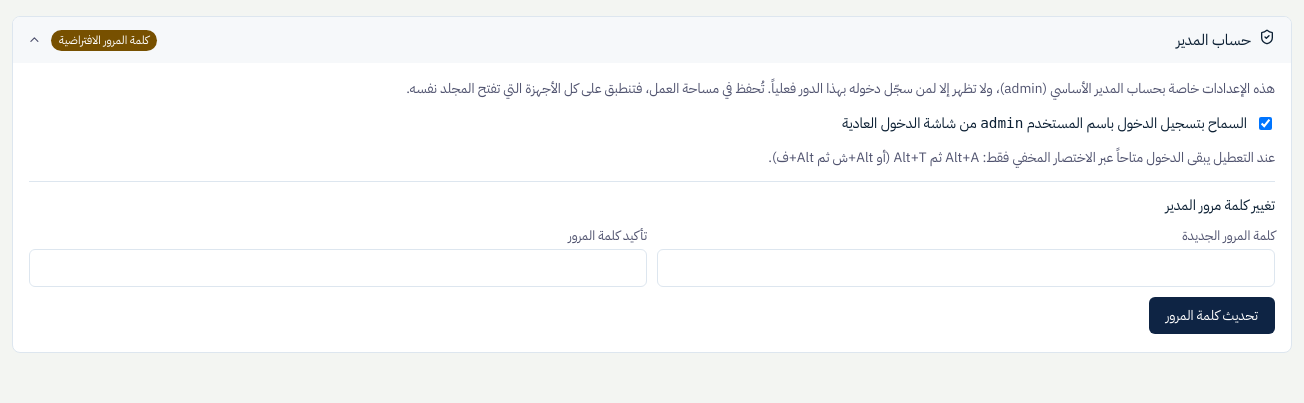
it: AdminAccountSection — editing › rejects mismatched confirmation without touching the stored passcode
The width and height of the screenshot is (1304, 403).
In the password field labelled "كلمة المرور الجديدة": {"x": 966, "y": 268} [657, 249, 1275, 287], type "new-pass"
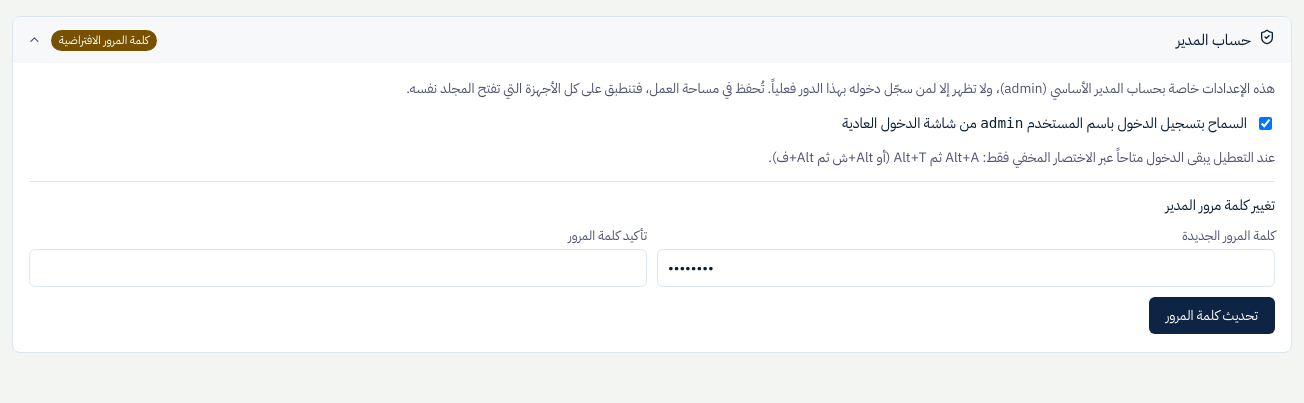
In the password field labelled "تأكيد كلمة المرور": {"x": 338, "y": 268} [29, 249, 647, 287], type "other-pass"
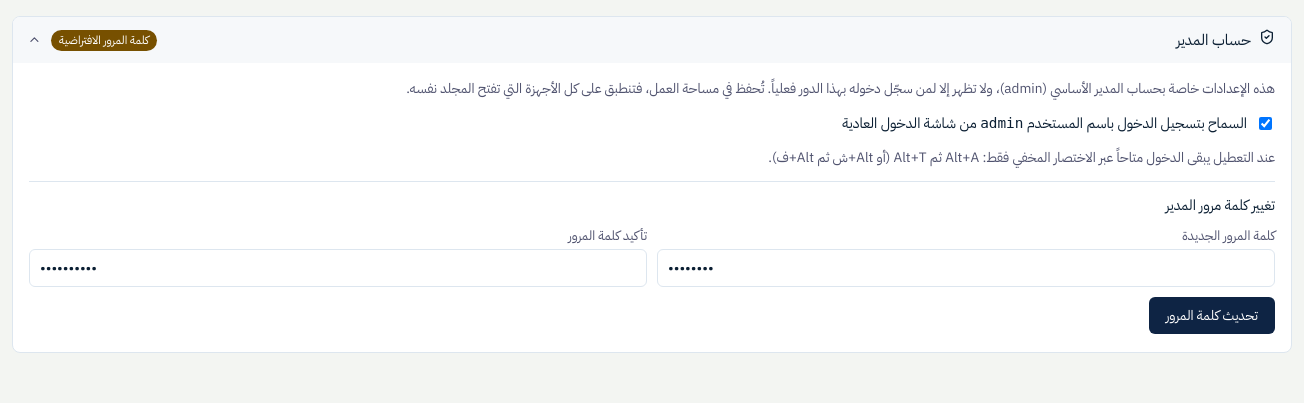
Click the button "تحديث كلمة المرور": {"x": 1212, "y": 316} [1149, 297, 1275, 334]
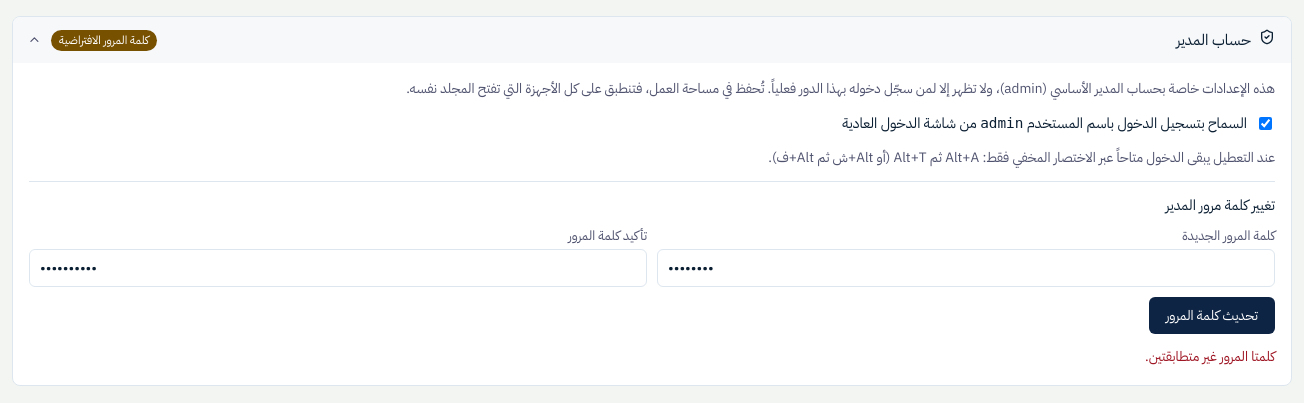
Expected: the text "كلمتا المرور غير متطابقتين." is shown, [1145, 346, 1275, 367]
